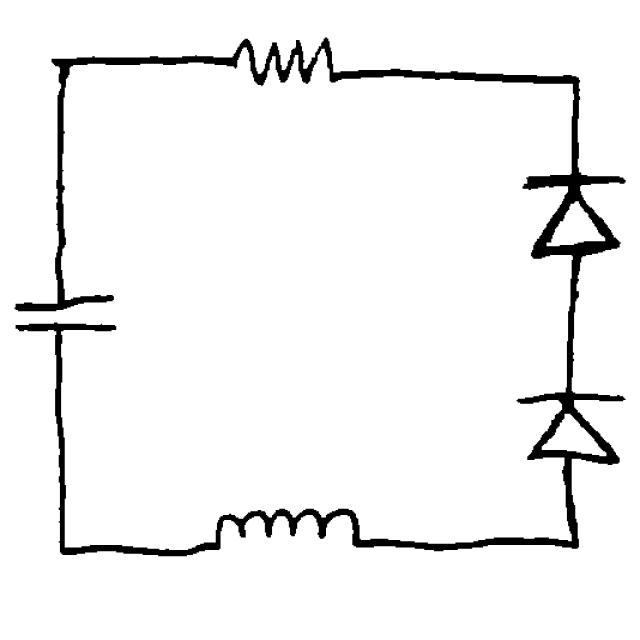capacitor: (8, 266, 130, 357)
diode: (512, 154, 635, 274), (510, 372, 634, 481)
inductor: (205, 492, 381, 565)
resistor: (211, 26, 360, 94)
